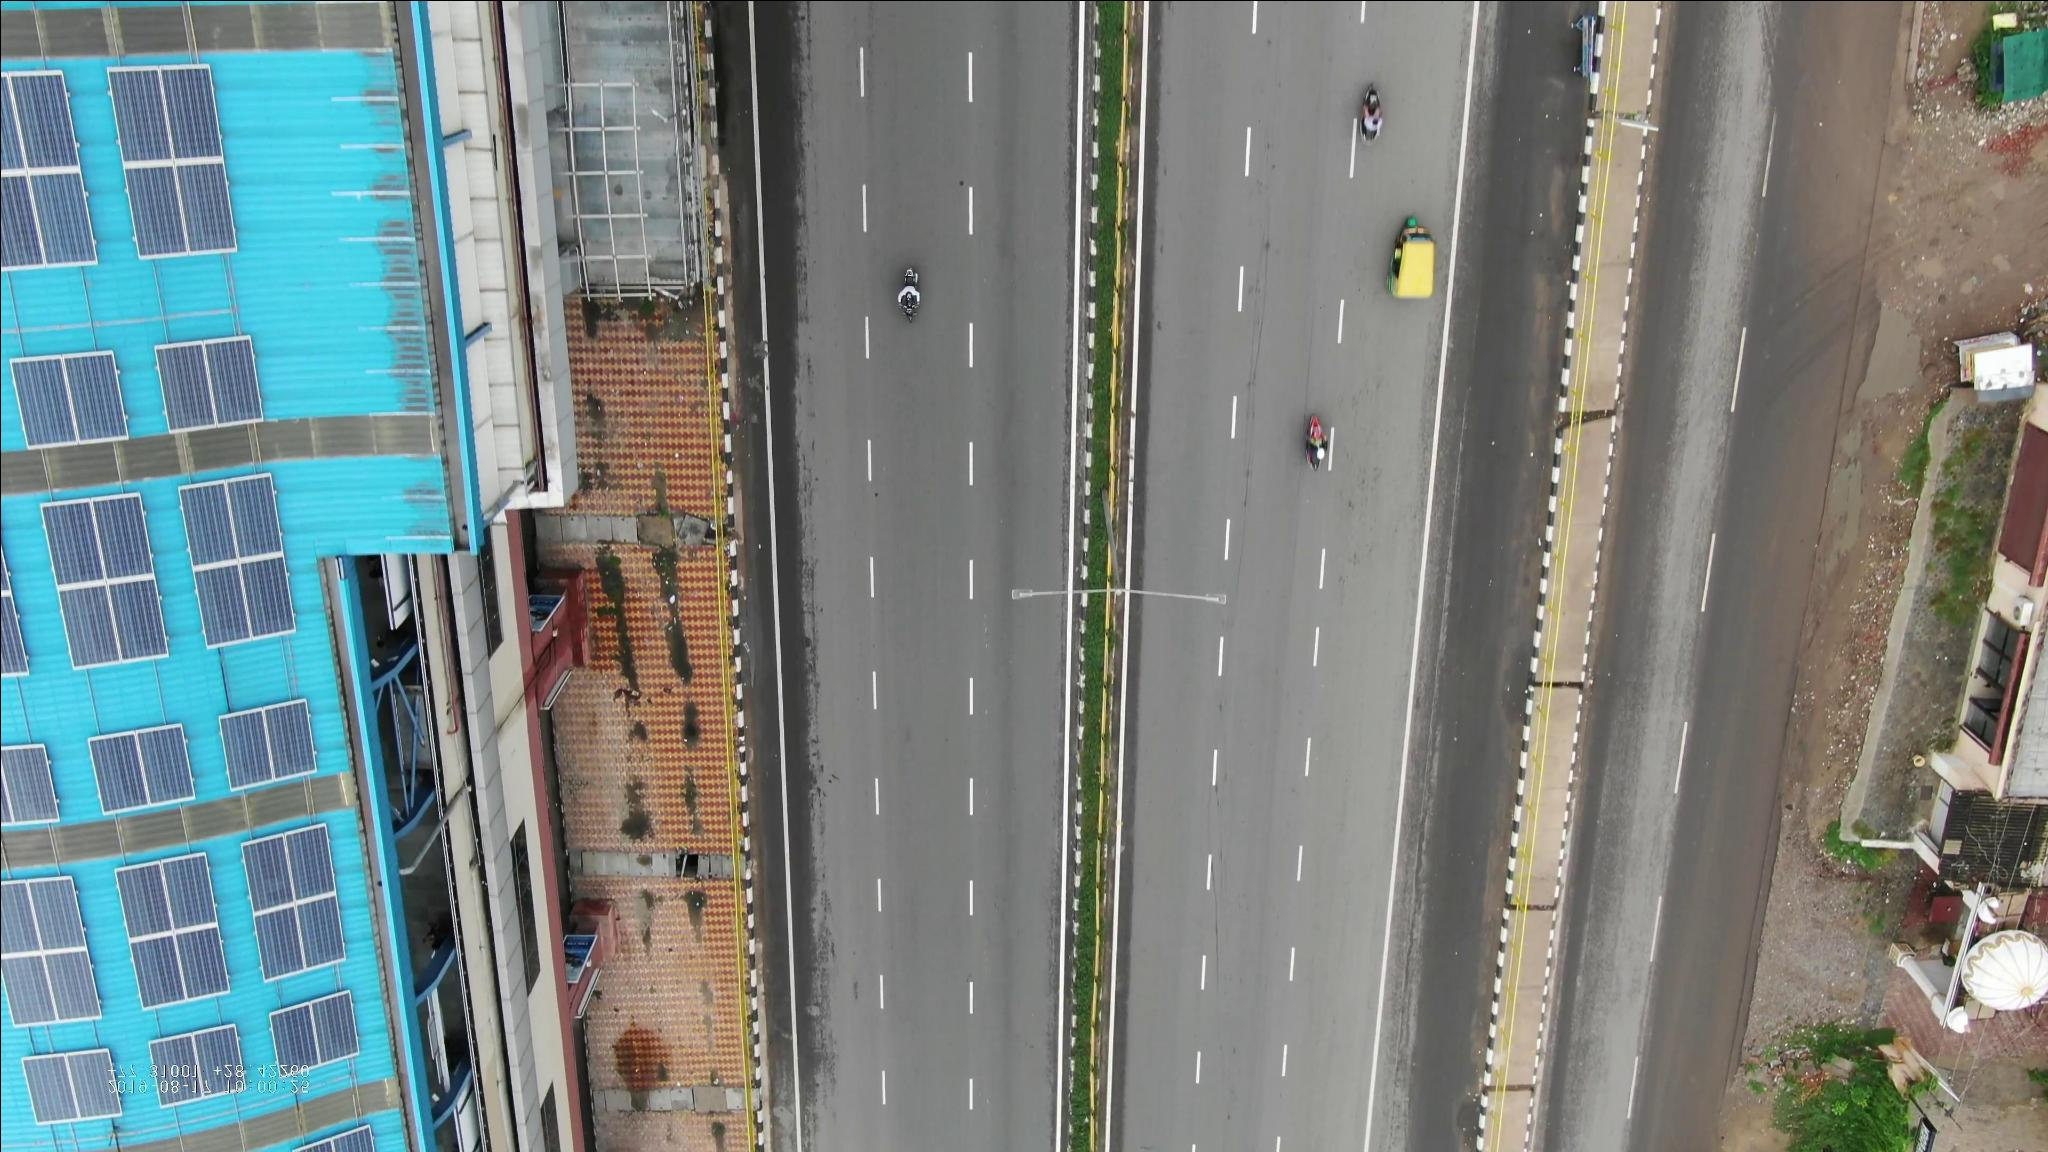Cracks: (1390, 731, 1453, 1018)
Muddy_road: (1685, 828, 1762, 1039), (1760, 390, 1829, 608), (1806, 69, 1876, 246)
Waterlogging: (1499, 632, 1539, 717), (1450, 1087, 1492, 1152)
